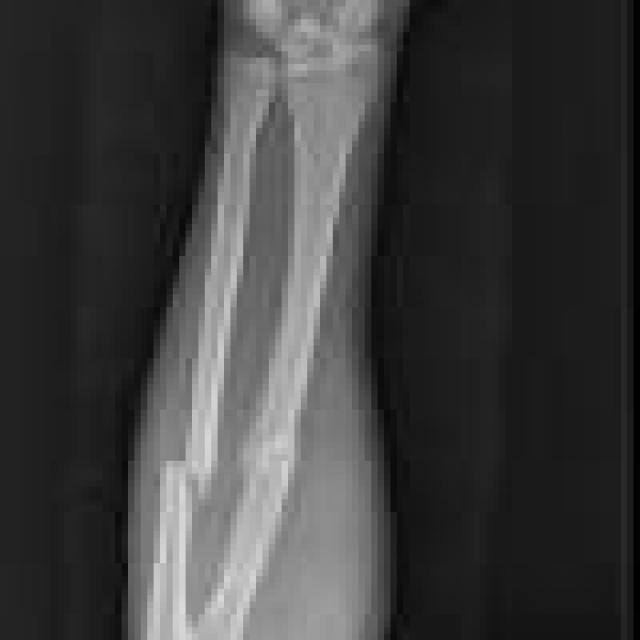Greenstick: (130, 378, 334, 510)
